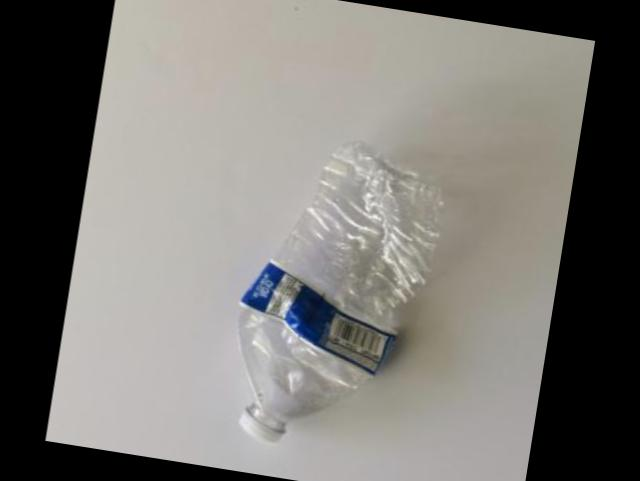plastic: (241, 142, 446, 442)
